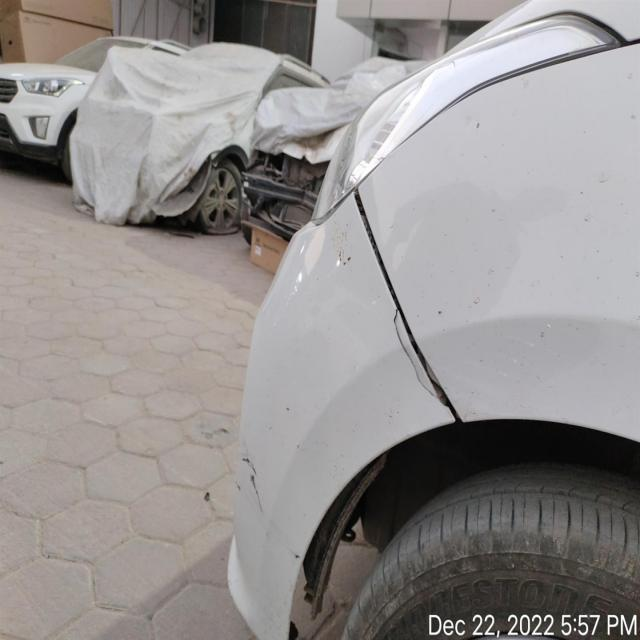damage: (393, 309, 457, 412)
